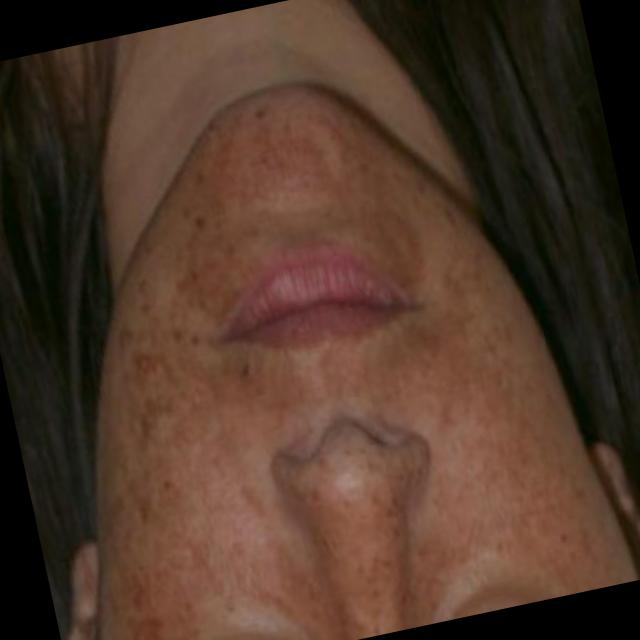melasma: (108, 275, 331, 640), (420, 237, 613, 615), (173, 119, 434, 331), (283, 444, 419, 631), (196, 339, 423, 420)
